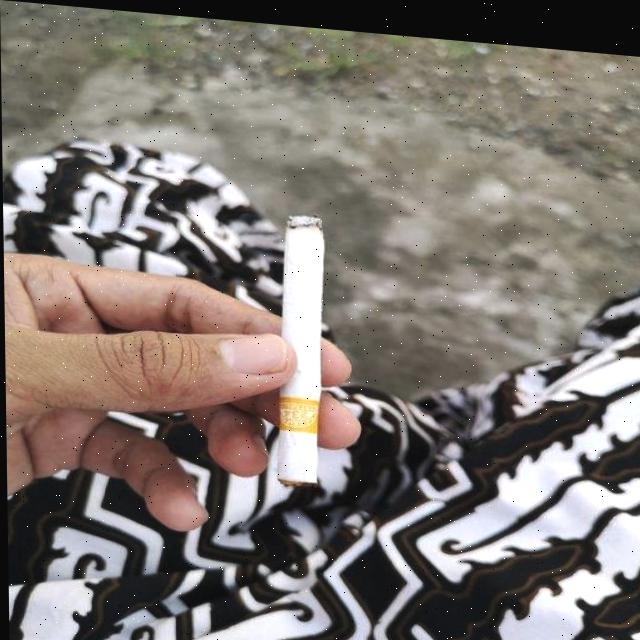cigarette: (273, 208, 327, 485)
